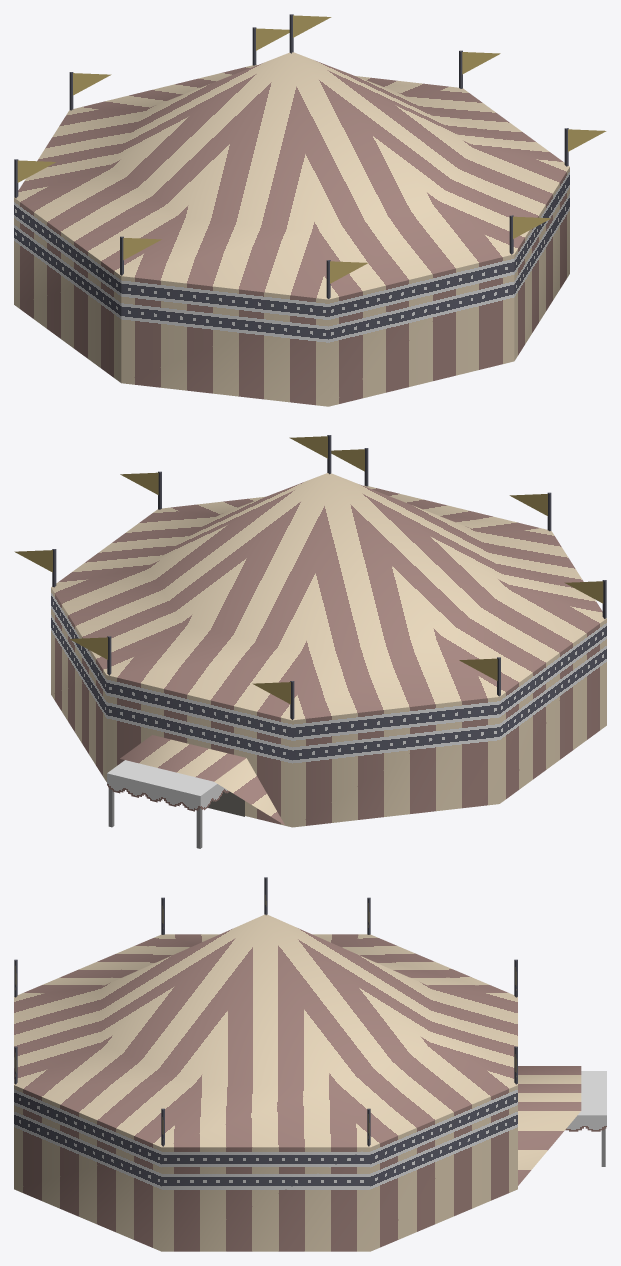
The model's file is 04a1_Small_Circus_Tent.glb.
3 views of the same model, one above another, from view 1: azimuth 30°, elevation 25°; view 2: azimuth 150°, elevation 25°; view 3: azimuth 270°, elevation 25° (orthographic). The views are drawn at different scales.
Parts seen in each view (by area): view 1: part_0; view 2: part_0; view 3: part_0.
Boxes of the visible parts, bbox=[...] form: part_0: bbox=[14, 14, 606, 406]; part_0: bbox=[14, 435, 606, 848]; part_0: bbox=[14, 877, 606, 1251].
Bounding box in the file's own units: 40.07 × 21.63 × 43.47.
1 material, 1 textured.
